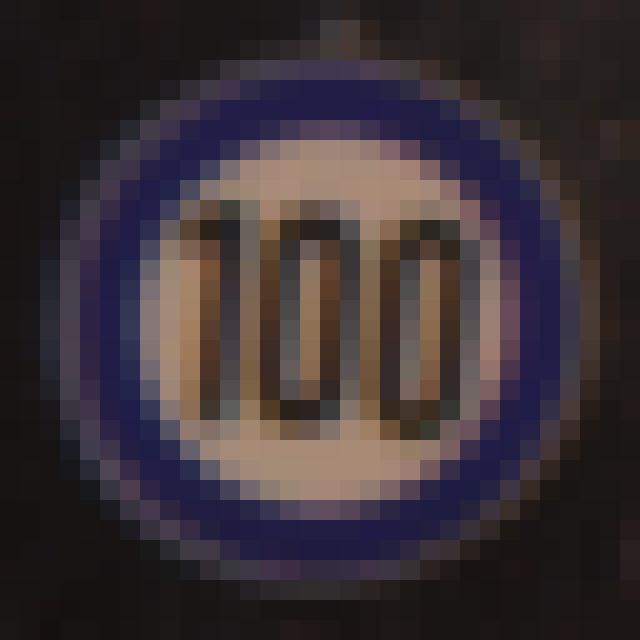SPEED LIMIT 100: (39, 59, 604, 591)
